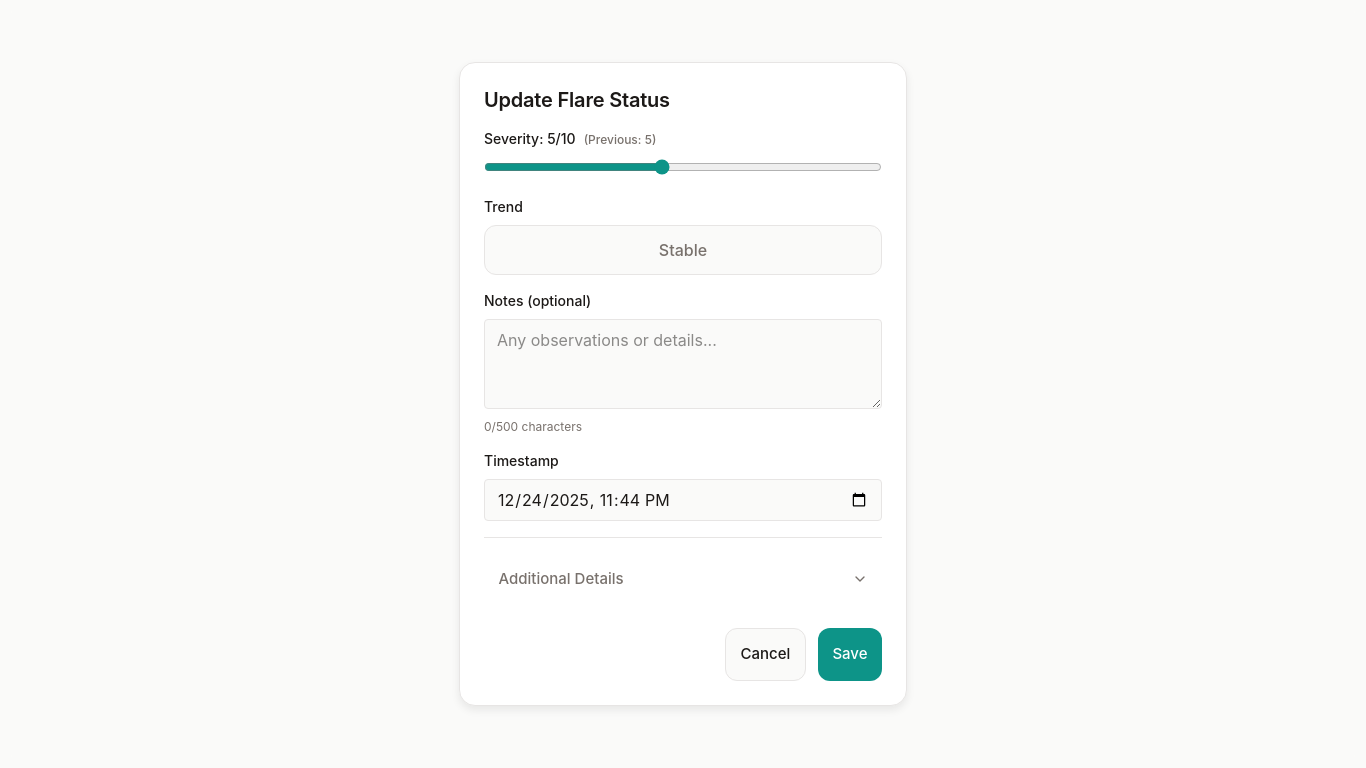
Scenario: FlareUpdateModal Lifecycle Integration › AC8.2.1: Lifecycle selector in Additional Details section › displays current stage badge when Additional Details section is expanded
What coordinates should you click on to do the following:
click the button "Additional Details"
I would click on:
 (561, 579)
Its box is [484,554,882,604].
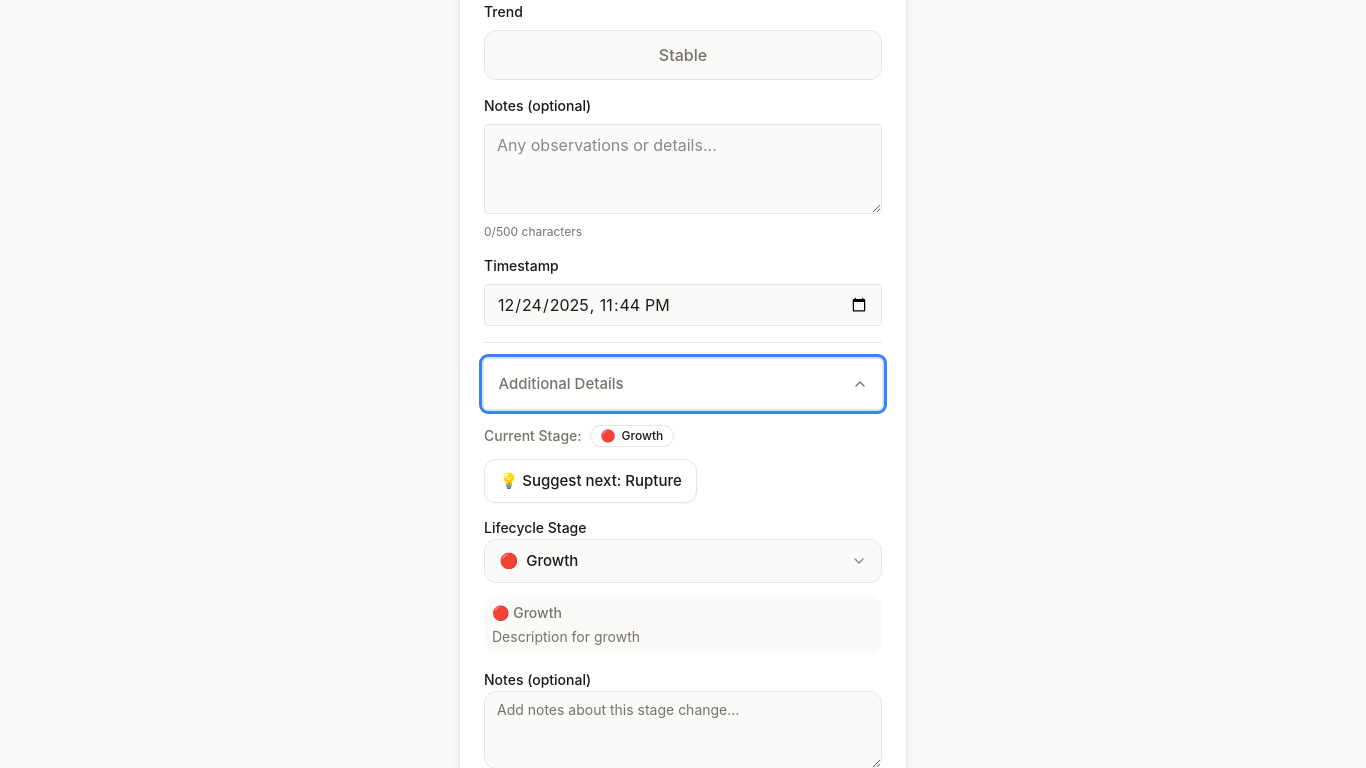
Now the text "Growth" next to "Current Stage:" is shown, box [622,428,663,443]
